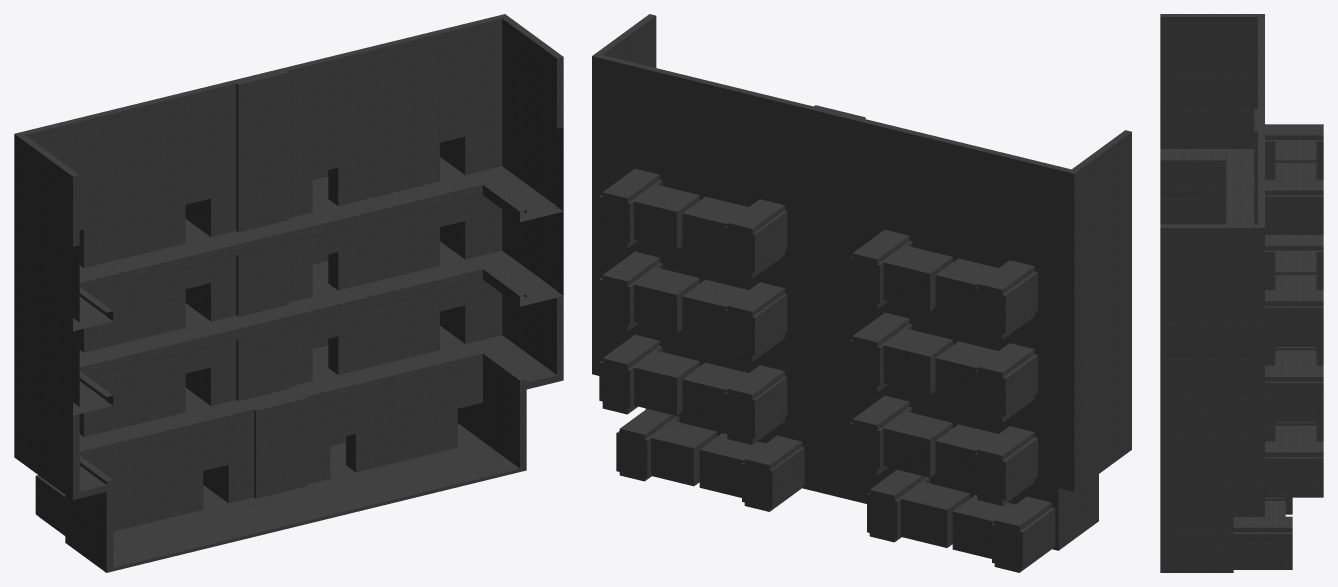
3 views of the same model, side by side, from view 1: azimuth 30°, elevation 25°; view 2: azimuth 150°, elevation 25°; view 3: azimuth 270°, elevation 25° (orthographic). The views are drawn at different scales.
Visible parts, largest first — view 1: Base; view 2: Base; view 3: Base.
Boxes of the visible parts, left/top/right/bottom form: Base: left=14, top=14, right=563, bottom=572; Base: left=592, top=14, right=1131, bottom=572; Base: left=1160, top=14, right=1323, bottom=572.
Bounding box in the file's own units: 36.5 × 28.75 × 11.8.
